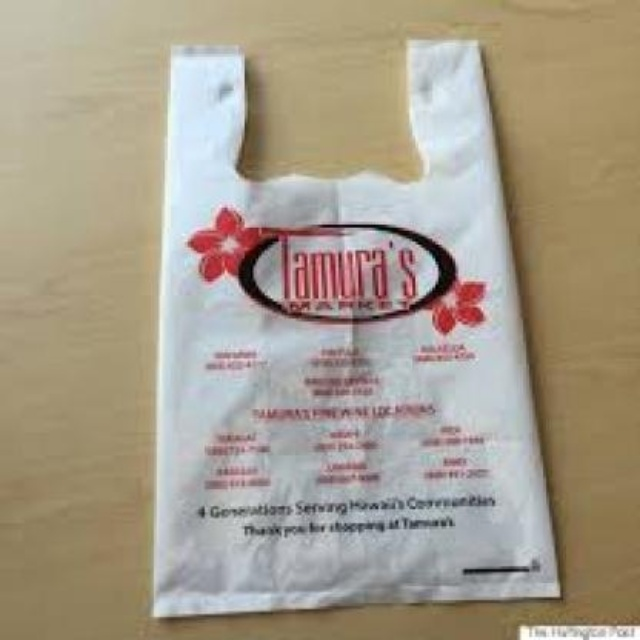trash: (154, 40, 557, 614)
